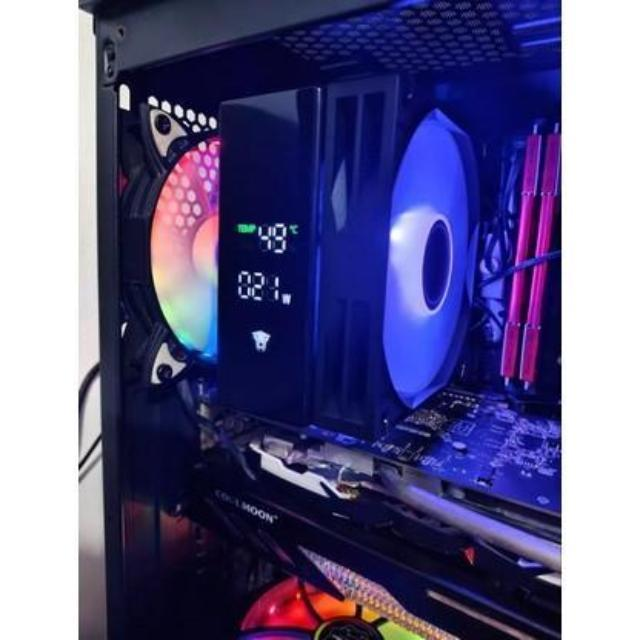CPU_Fan: (216, 89, 482, 454)
